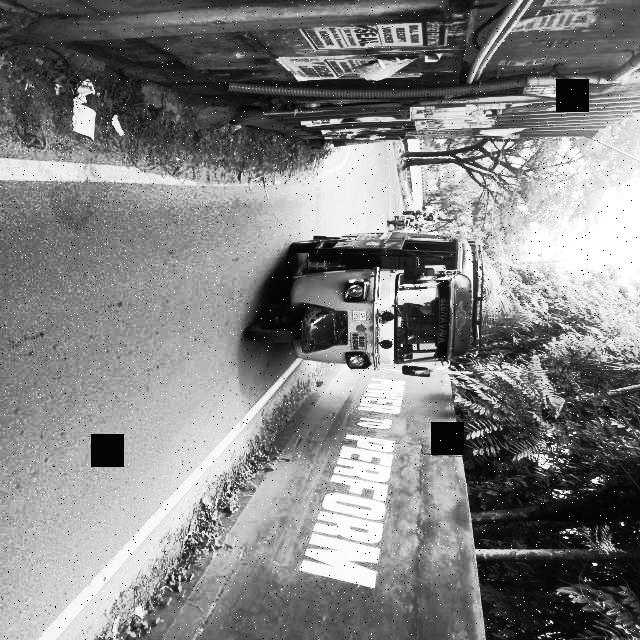Auto-Rickshaw: (246, 228, 474, 384)
